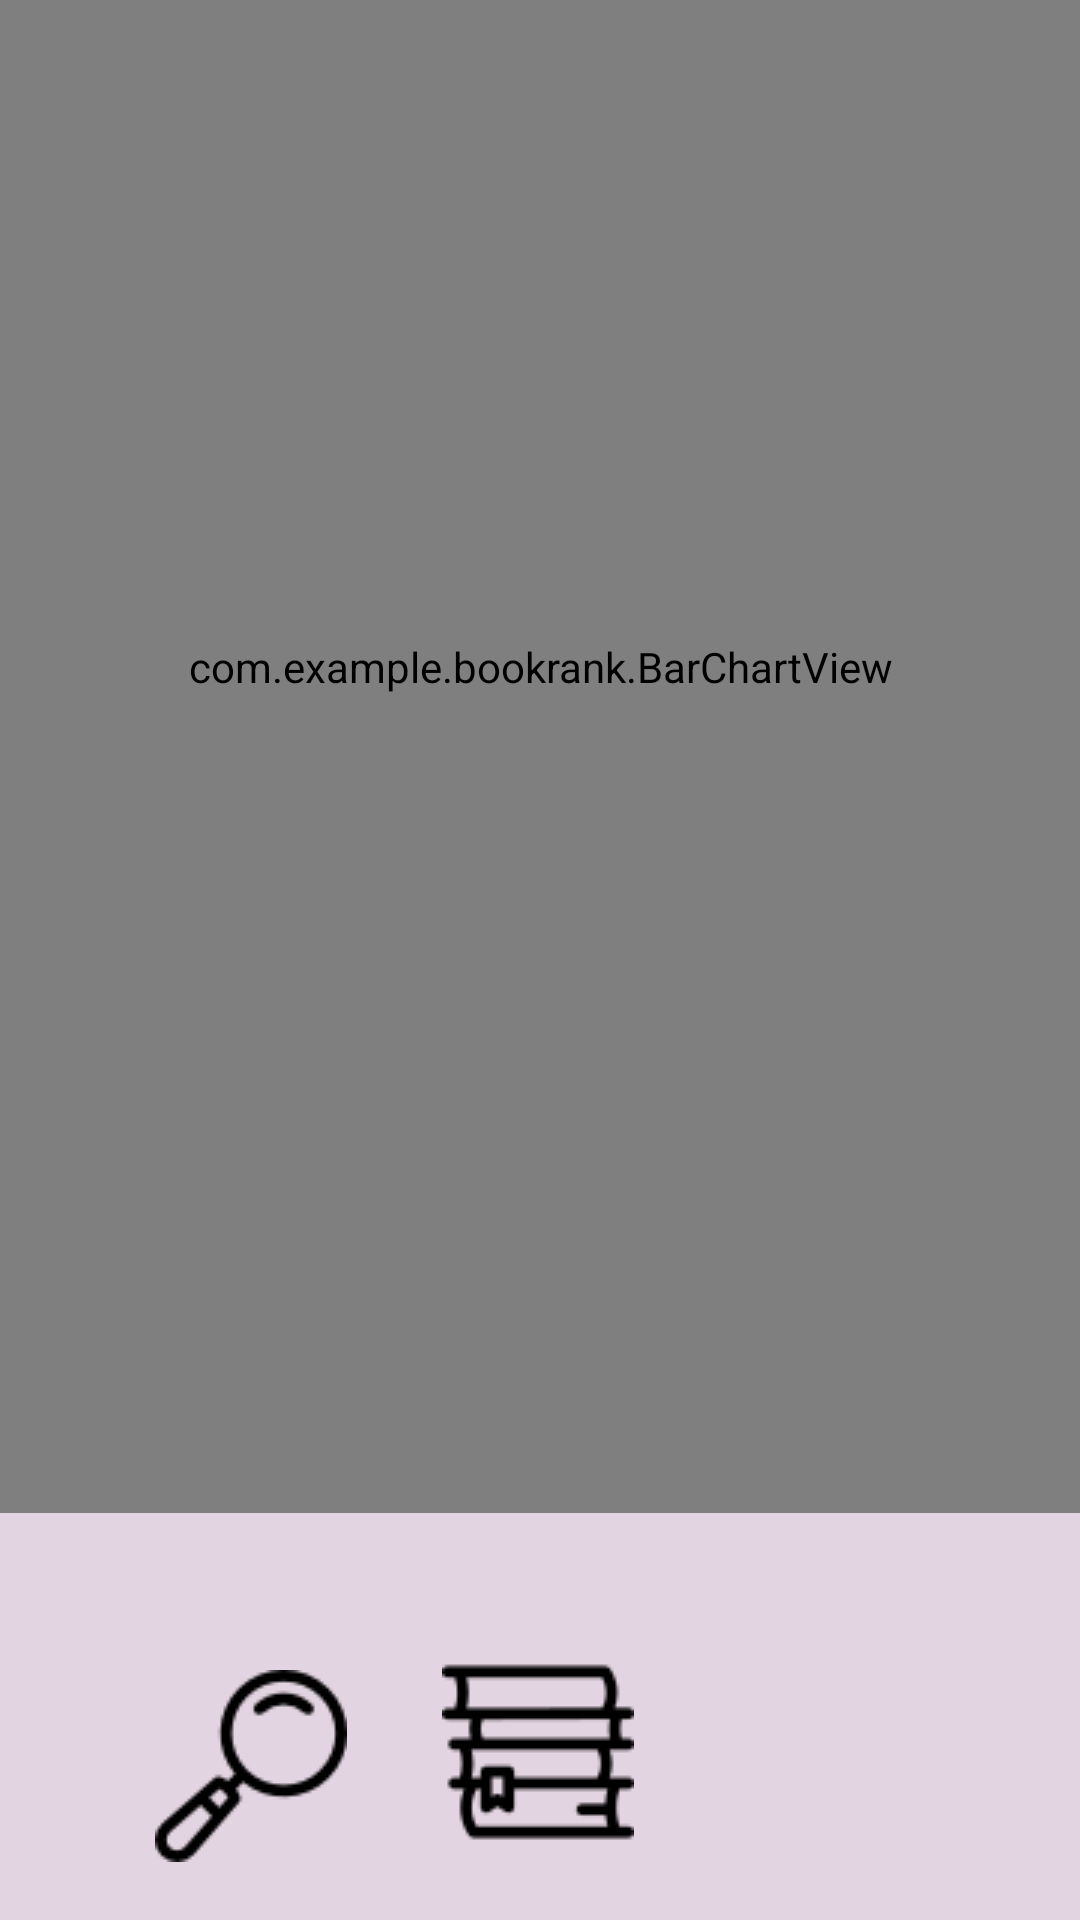

Named icons in this screenshot (1080*1920) and their centers, [x,y]:
Botón para acceder a tus listas de libros: [538,1752]
Botón para buscar nuevos libros: [251,1766]
